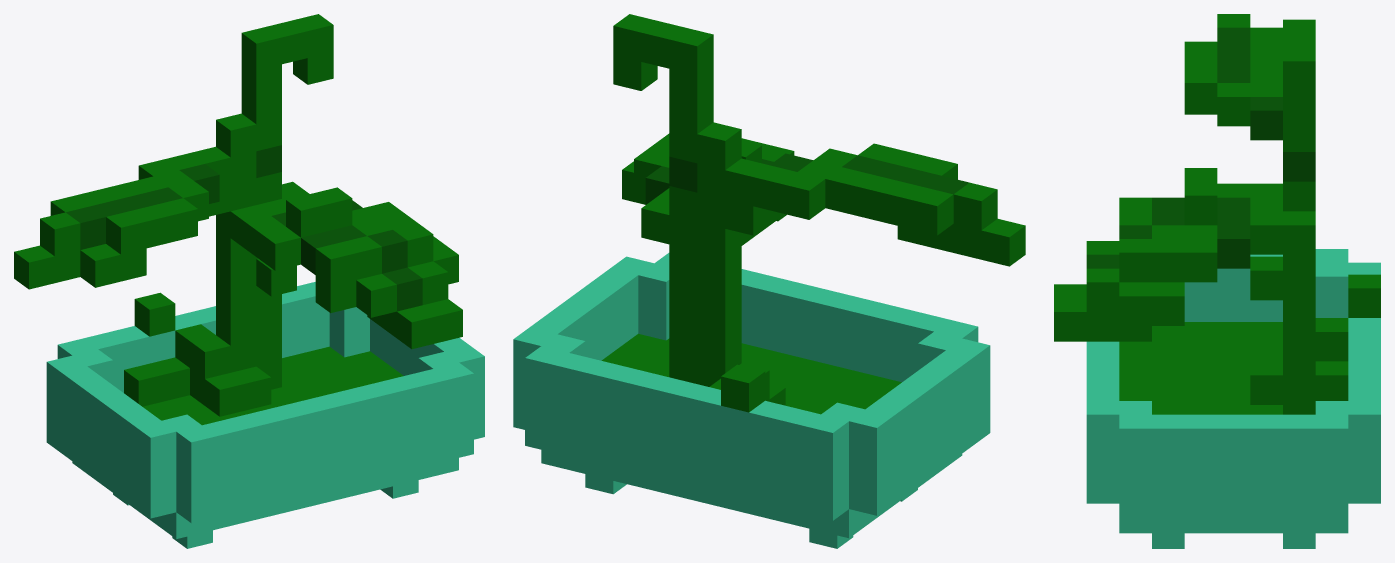
File: bonsai.glb
3 renders of one model, left to right at view 1: azimuth 30°, elevation 25°; view 2: azimuth 150°, elevation 25°; view 3: azimuth 270°, elevation 25°, orthographic. The views are drawn at different scales.
Visible parts, largest first — view 1: ObjObject; view 2: ObjObject; view 3: ObjObject.
Boxes of the visible parts, x1,y1,x2,y2 form: ObjObject: (14,14,484,548); ObjObject: (513,14,1025,548); ObjObject: (1054,14,1380,548).
Size of the model in its own units: 1.6 by 1.6 by 1.
1 material, 1 textured.
